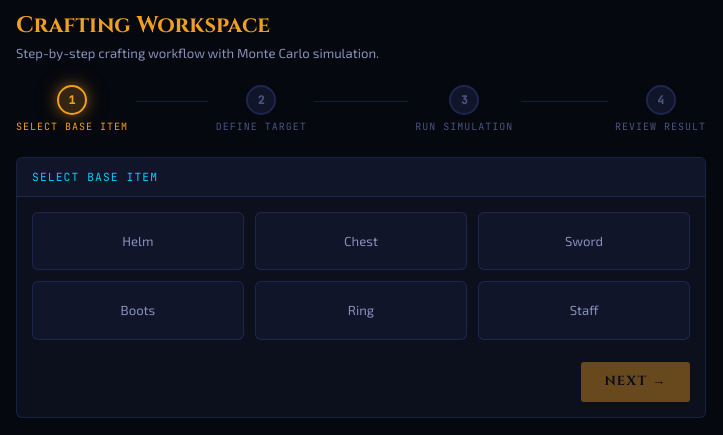
Test: CraftingWorkspace › Next button enables after selecting a base item
Click the button "Helm" at [138, 241], box [32,212,244,270]
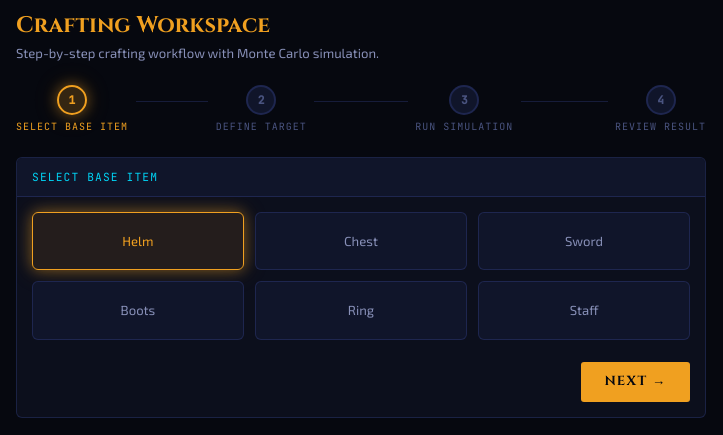
Now the button "Next →" is enabled, box [581,362,690,402]
